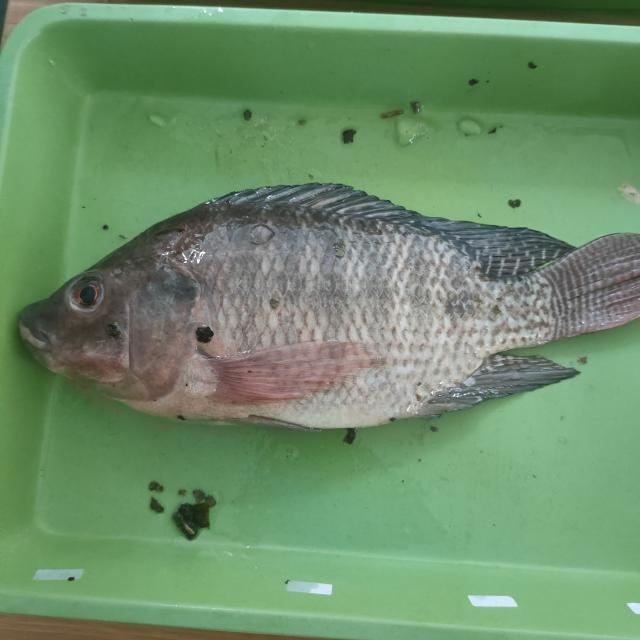Fresh: (196, 174, 640, 449), (53, 273, 152, 345)
